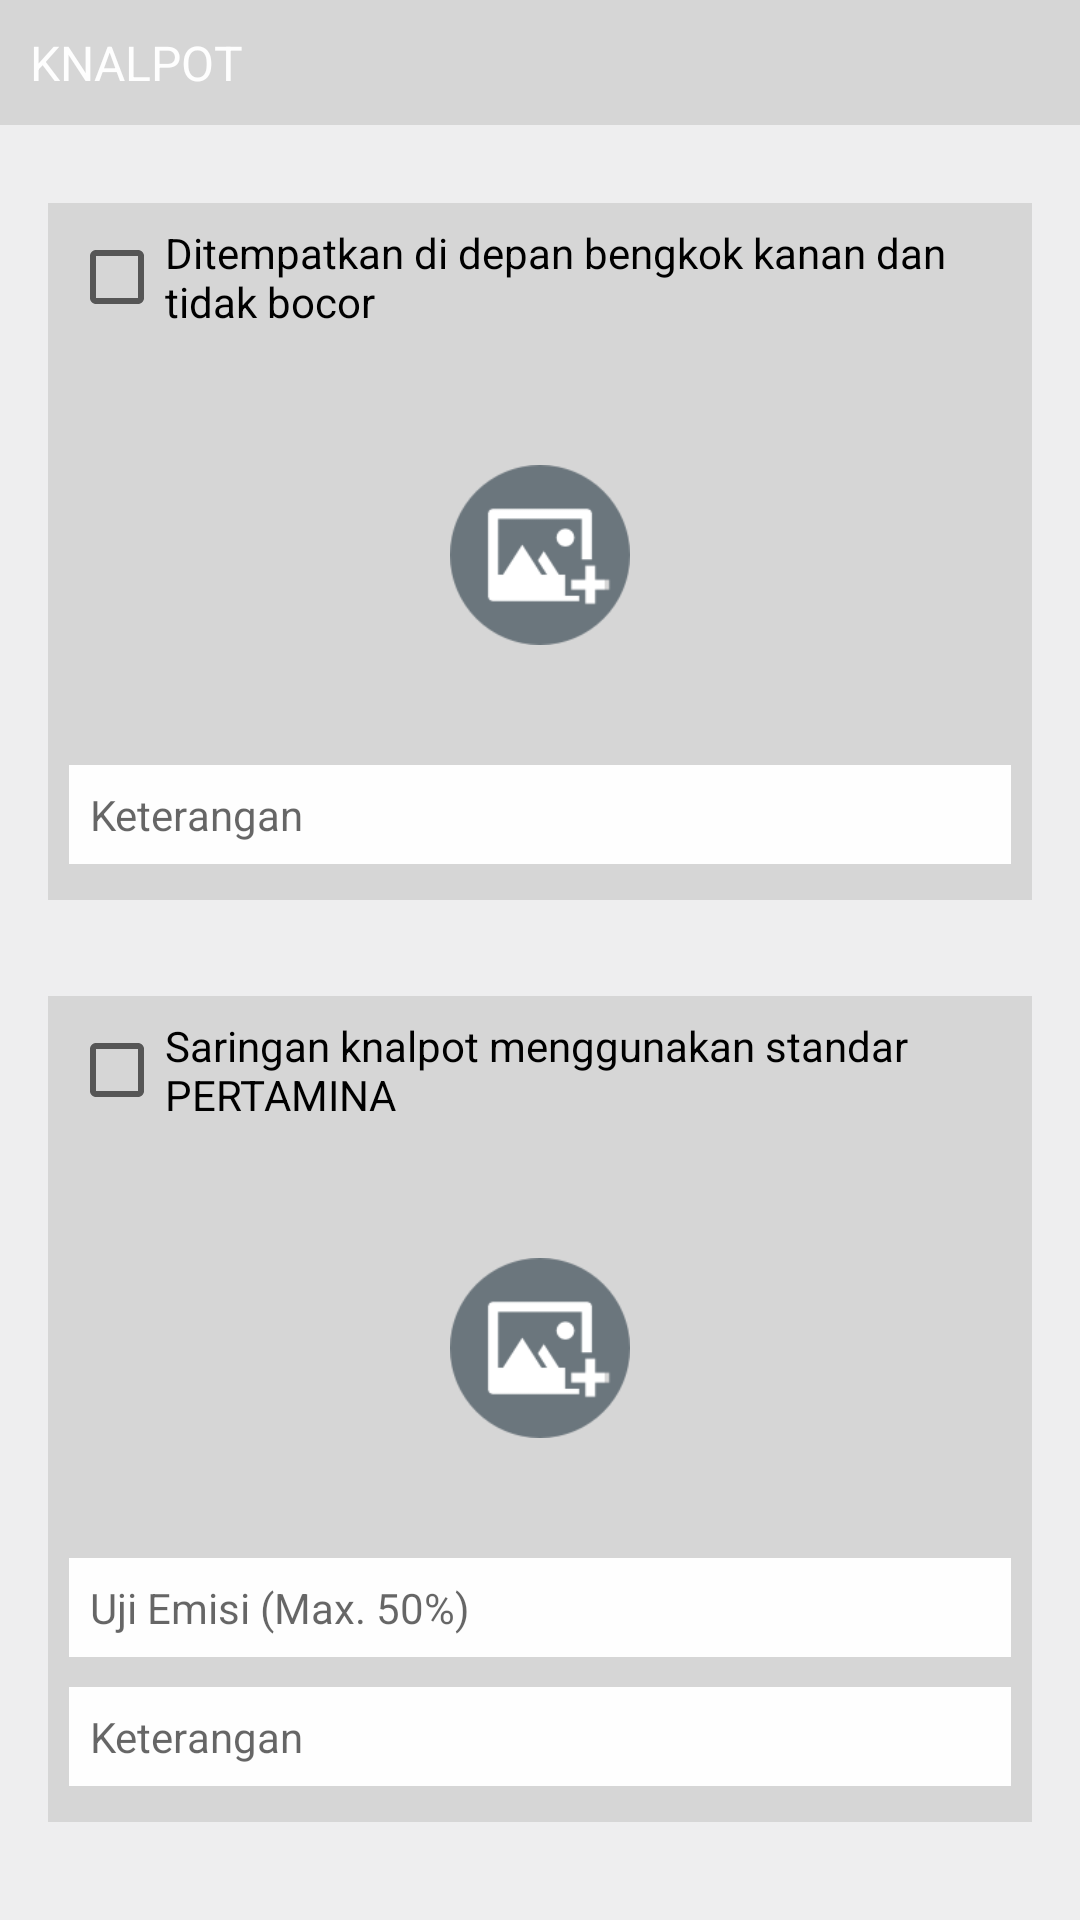

Where icons sit on this 1080px×1920px app screen, as [x1, y1, x2, y2]:
add: [450, 465, 630, 645], [450, 1258, 630, 1438]
